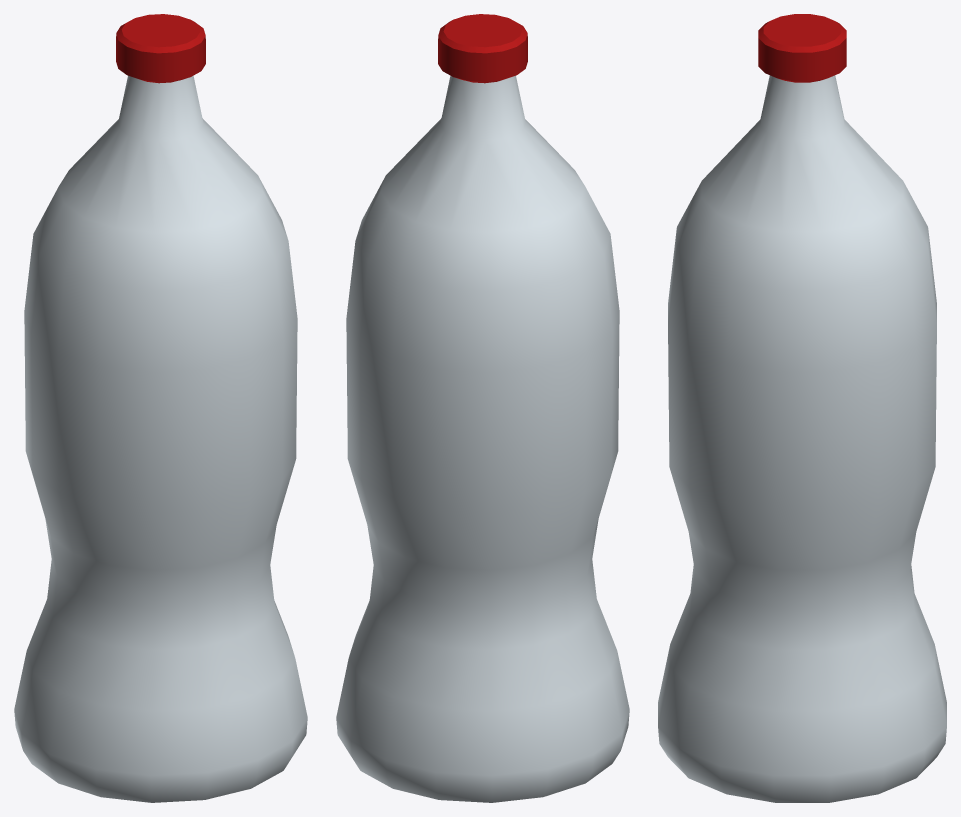
The model's file is Botella_03.fbx.
3 views of the same model, side by side, from view 1: azimuth 30°, elevation 25°; view 2: azimuth 150°, elevation 25°; view 3: azimuth 270°, elevation 25° (orthographic).
Parts seen in each view (by area): view 1: Botella_03; view 2: Botella_03; view 3: Botella_03.
Boxes of the visible parts, x1,y1,x2,y2 form: Botella_03: (14, 14, 307, 802); Botella_03: (336, 14, 629, 802); Botella_03: (658, 14, 946, 802).
Size of the model in its own units: 23.92 by 65.72 by 23.92.
